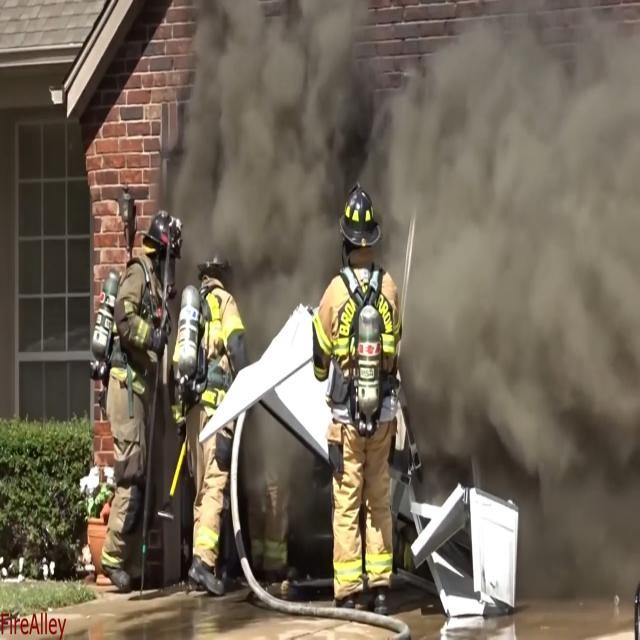Smoke: (430, 49, 633, 451)
